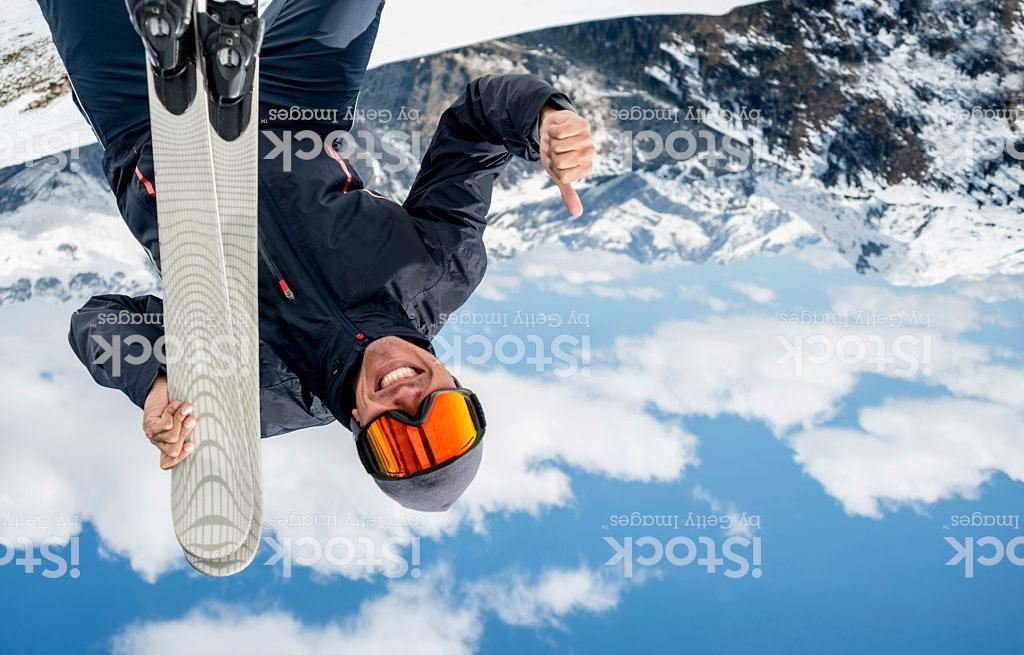thumbsdown: (537, 109, 599, 218)
